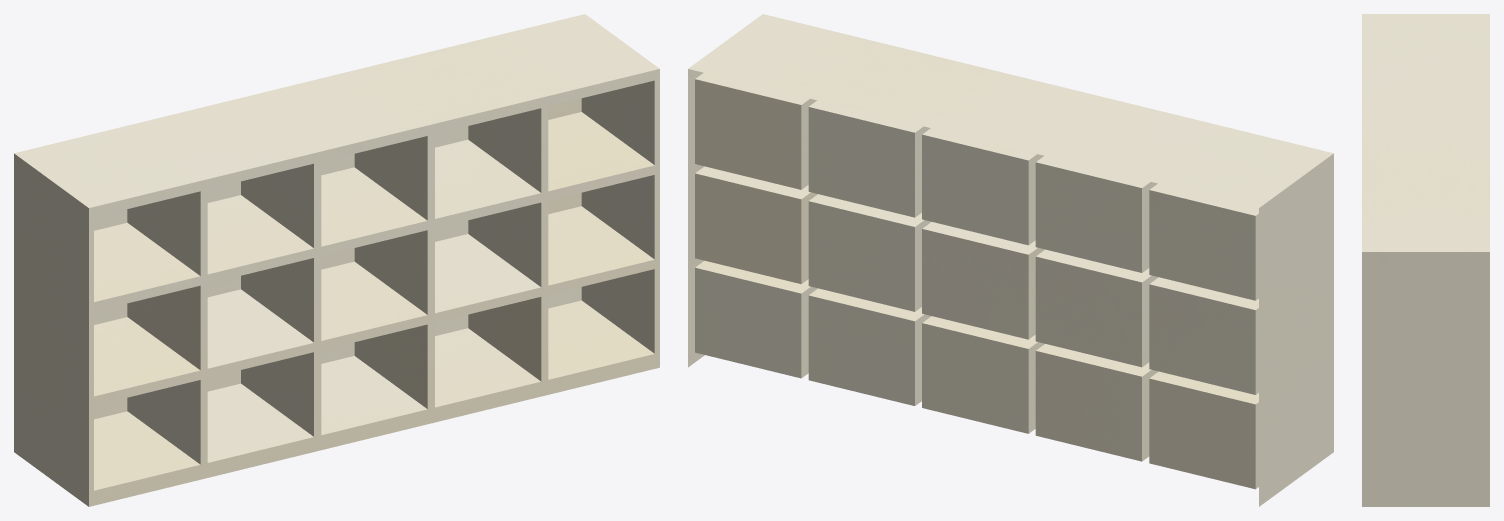
File: locker.fbx
3 views of the same model, side by side, from view 1: azimuth 30°, elevation 25°; view 2: azimuth 150°, elevation 25°; view 3: azimuth 270°, elevation 25° (orthographic). The views are drawn at different scales.
Visible parts, largest first — view 1: mesh; view 2: mesh; view 3: mesh.
Part boxes in pixels (x1,y1,x2,y2): mesh: (14, 14, 659, 506); mesh: (688, 14, 1333, 506); mesh: (1362, 14, 1489, 506).
Bounding box in the file's own units: 176 × 88 × 40.
1 material, 1 textured.
